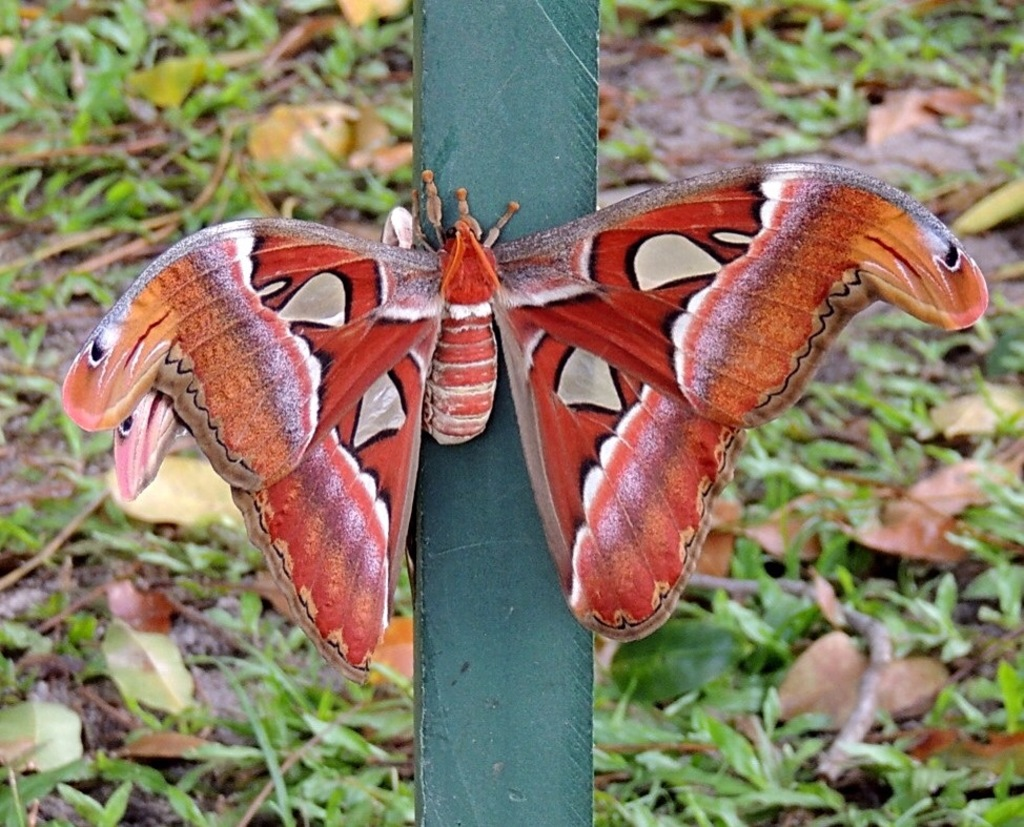Butterfly: (65, 154, 990, 688)
